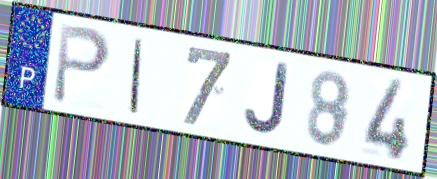4: (362, 76, 413, 163)
7: (179, 43, 235, 128)
8: (304, 69, 353, 149)
I: (126, 35, 147, 117)
J: (242, 61, 292, 138)
P: (49, 21, 113, 108)
